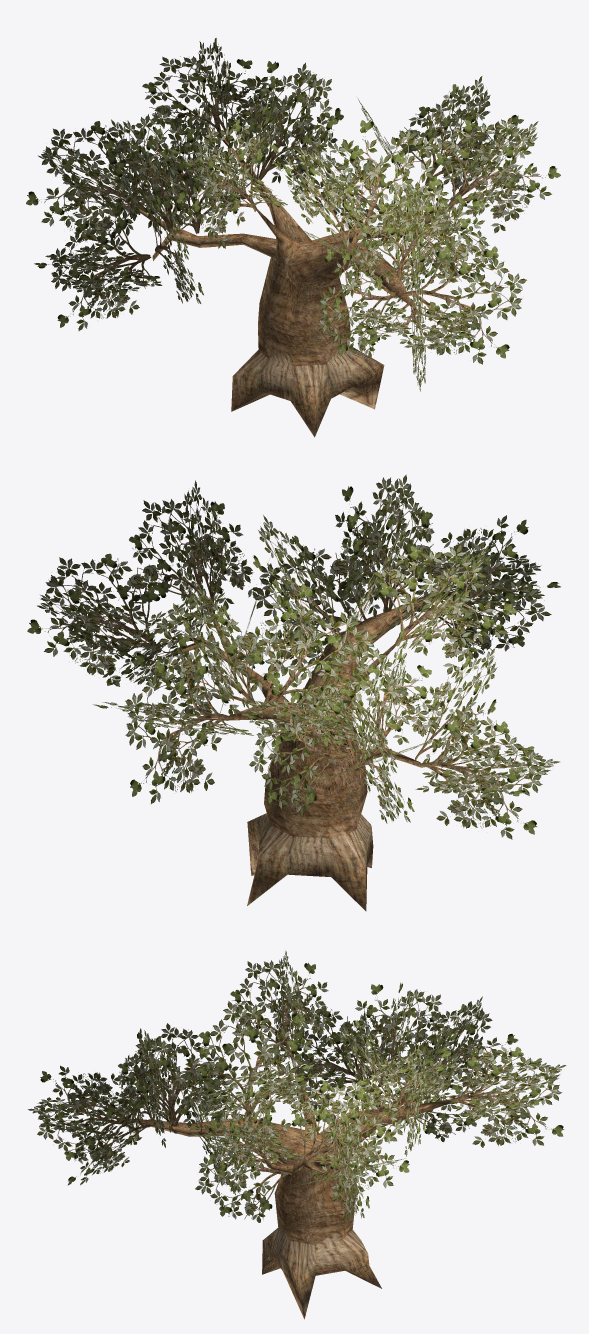
Rendered from decd_blba_tree_l1.fbx.
3 views of the same model, one above another, from view 1: azimuth 30°, elevation 25°; view 2: azimuth 150°, elevation 25°; view 3: azimuth 270°, elevation 25° (orthographic). The views are drawn at different scales.
Parts seen in each view (by area): view 1: mesh_node; view 2: mesh_node; view 3: mesh_node.
Boxes of the visible parts, x1,y1,x2,y2 form: mesh_node: (26, 38, 560, 437); mesh_node: (27, 474, 560, 911); mesh_node: (28, 950, 566, 1319).
Bounding box in the file's own units: 13.73 × 9.8 × 16.07.
